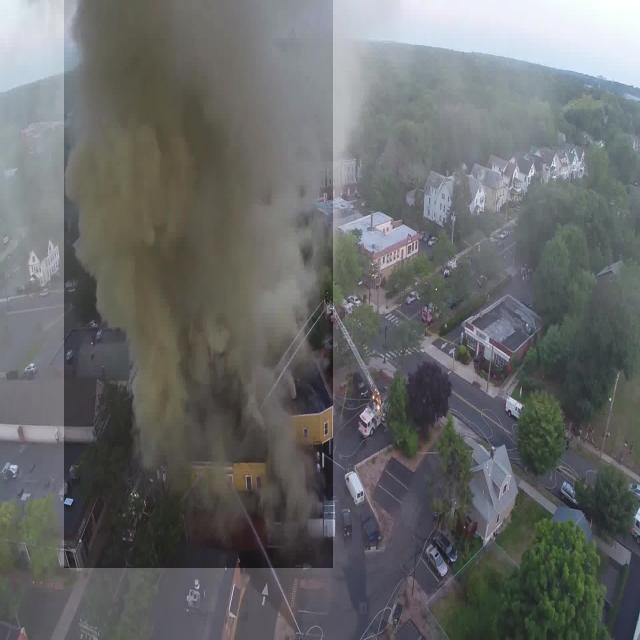Smoke: (64, 0, 333, 568)
